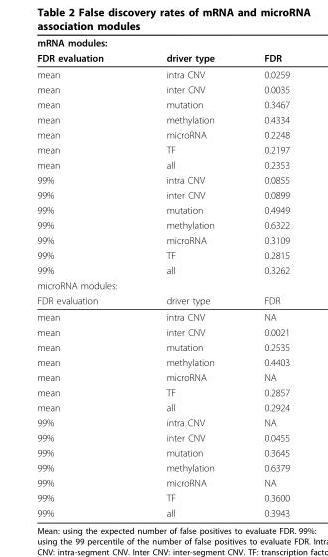table: (36, 36, 289, 518)
table column: (36, 36, 140, 518), (140, 36, 238, 518), (238, 36, 289, 518)
table column header: (36, 36, 289, 65)
table projected row header: (36, 277, 289, 292)
table row: (36, 49, 289, 65), (36, 65, 289, 81), (36, 141, 289, 157), (36, 292, 289, 308), (36, 308, 289, 324), (36, 489, 289, 505), (36, 81, 289, 96), (36, 96, 289, 111), (36, 111, 289, 126), (36, 126, 289, 141), (36, 157, 289, 172), (36, 172, 289, 187), (36, 187, 289, 202), (36, 202, 289, 217), (36, 217, 289, 232), (36, 232, 289, 247), (36, 247, 289, 262), (36, 262, 289, 277), (36, 277, 289, 292), (36, 324, 289, 339), (36, 339, 289, 354), (36, 354, 289, 369), (36, 369, 289, 384), (36, 384, 289, 399), (36, 399, 289, 414), (36, 414, 289, 429), (36, 429, 289, 444), (36, 444, 289, 459), (36, 459, 289, 474), (36, 474, 289, 489), (36, 36, 289, 49), (36, 505, 289, 518)
table spanning cell: (36, 36, 140, 65), (140, 36, 238, 65), (238, 36, 289, 65)
